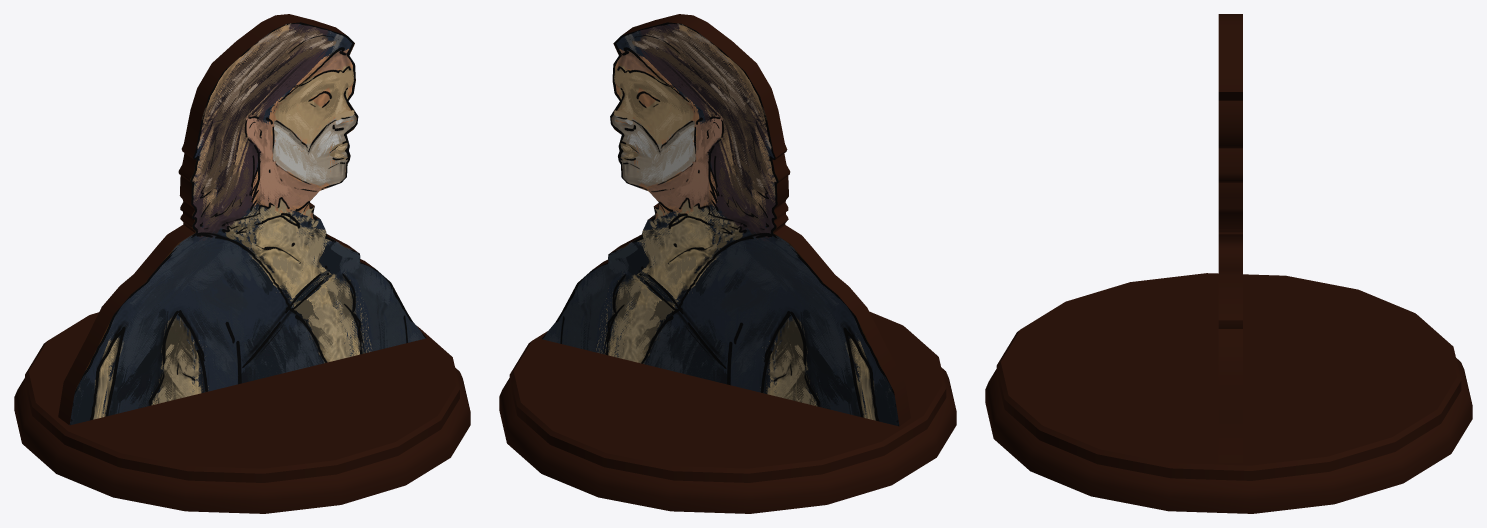
File: Character_Male_v1.FBX
The picture shows the model from 3 angles, left to right: view 1: azimuth 30°, elevation 25°; view 2: azimuth 150°, elevation 25°; view 3: azimuth 270°, elevation 25°; orthographic projection. The views are drawn at different scales.
Parts seen in each view (by area): view 1: Cylinder003; view 2: Cylinder003; view 3: Cylinder003.
Boxes of the visible parts, x1,y1,x2,y2 form: Cylinder003: [14, 14, 470, 513]; Cylinder003: [499, 14, 956, 513]; Cylinder003: [985, 14, 1472, 513].
Size of the model in its own units: 55.85 by 52.48 by 55.95.
